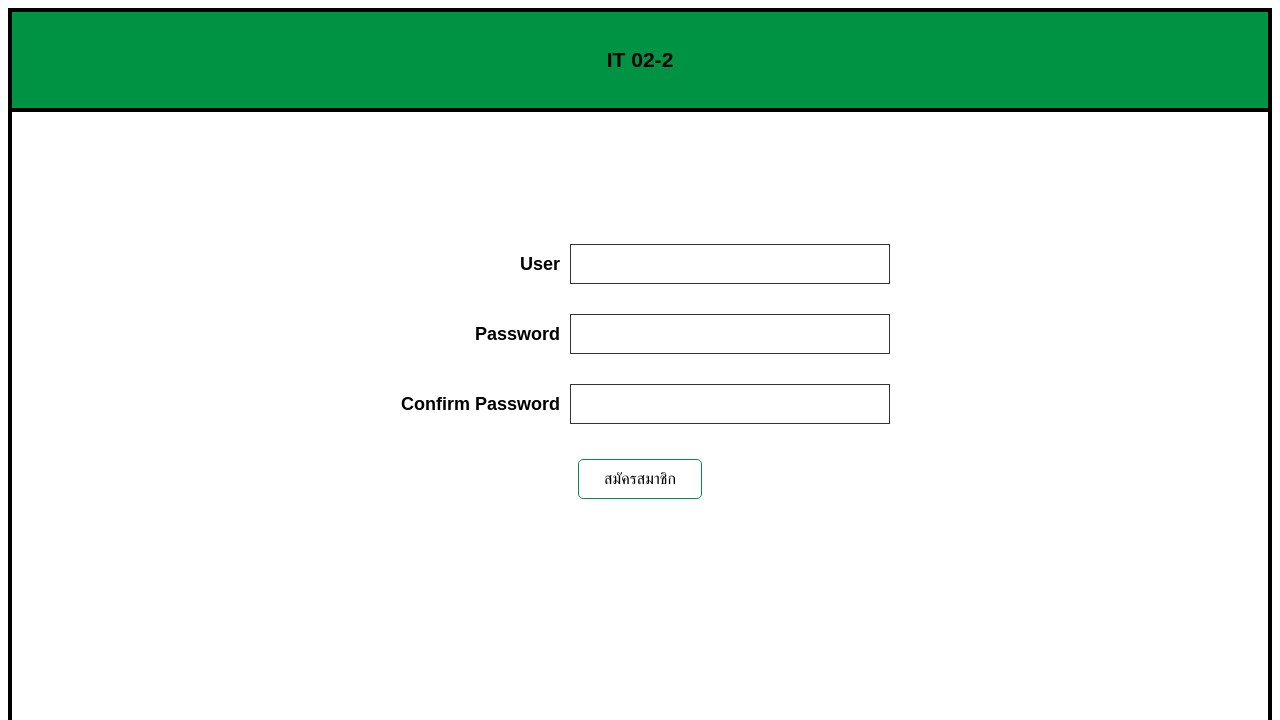
Test: Register.vue › สมัครไม่สำเร็จ (password ไม่ตรง)
The width and height of the screenshot is (1280, 720).
In the field: (730, 264) 570,244 -> 890,284, type "user2"
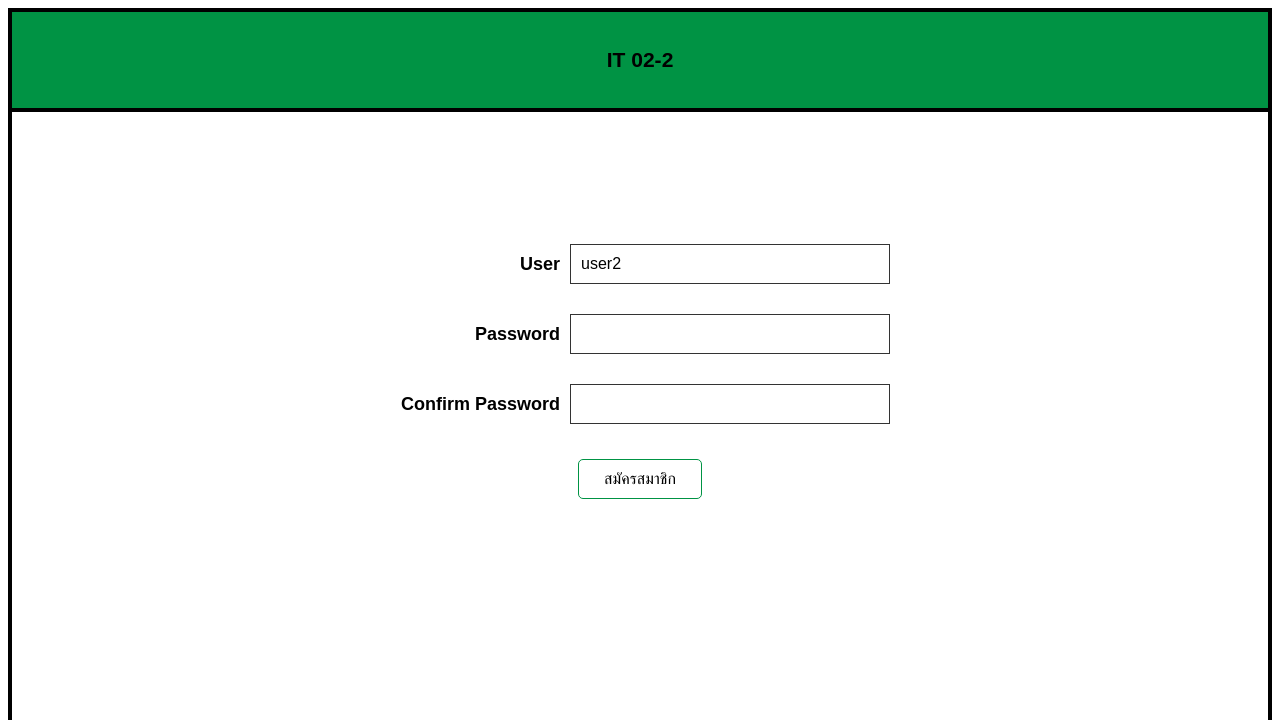
In the 1st password field: (730, 334) 570,314 -> 890,354, type "123456"
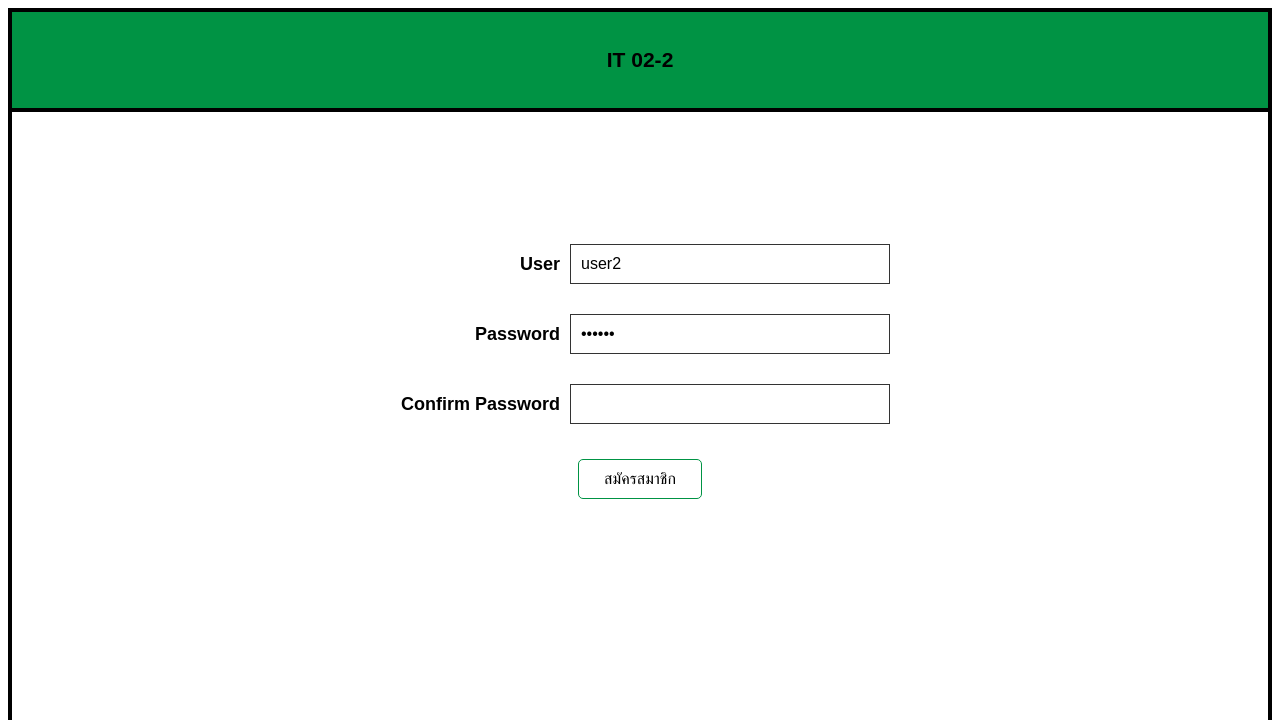
In the password field next to "Confirm Password": (730, 404) 570,384 -> 890,424, type "654321"
(page scrolled)
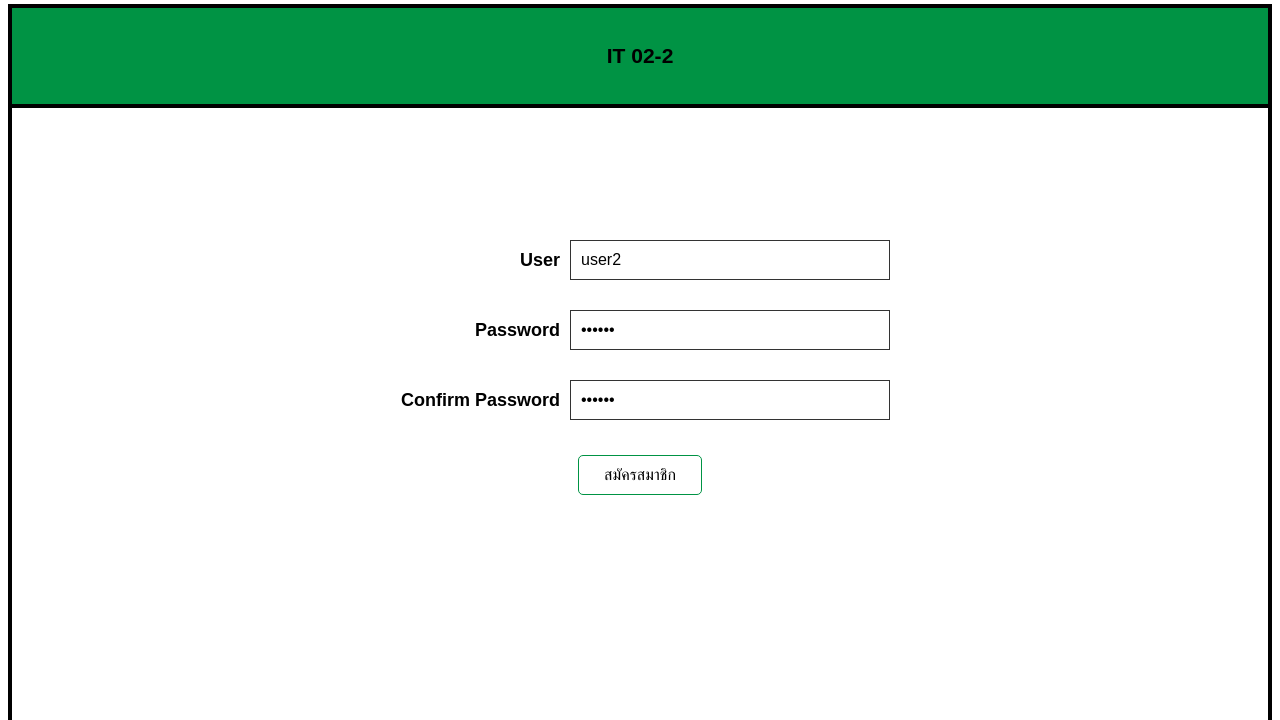
Submit the form, box 401,240 -> 890,495
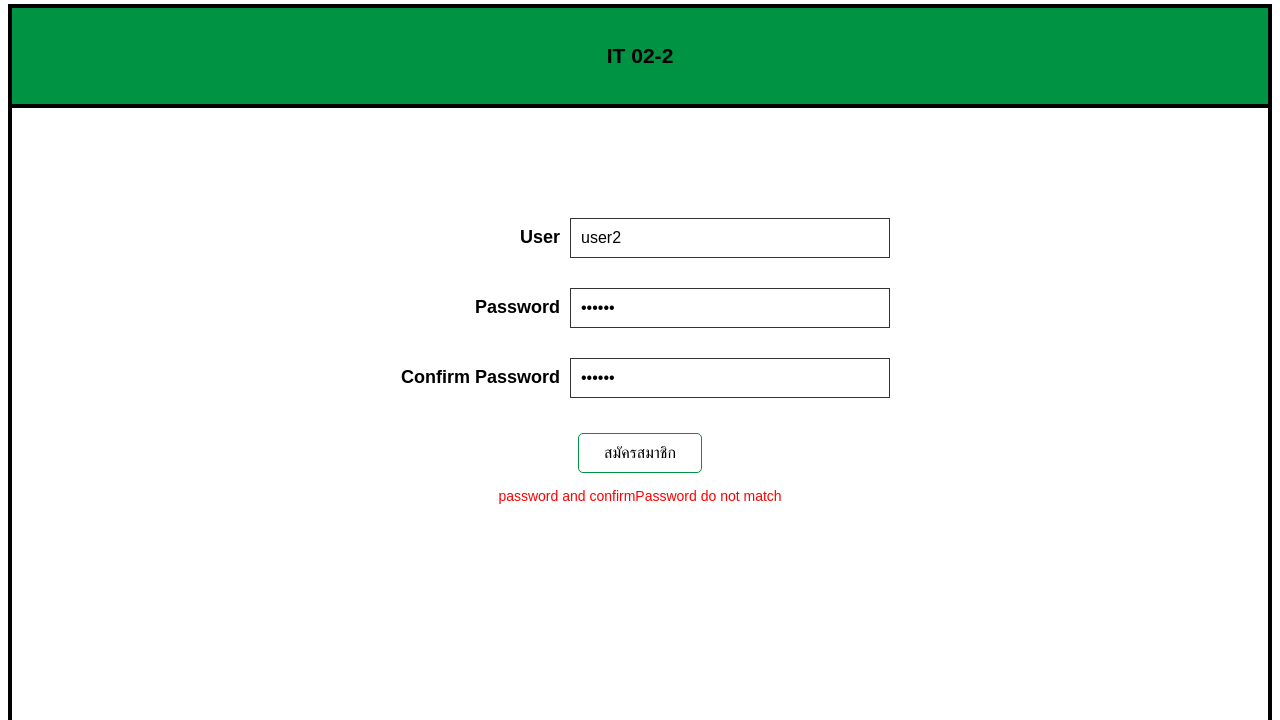
expect the text "password and confirmPassword do not match" is shown: met, box 498,488 -> 782,504
